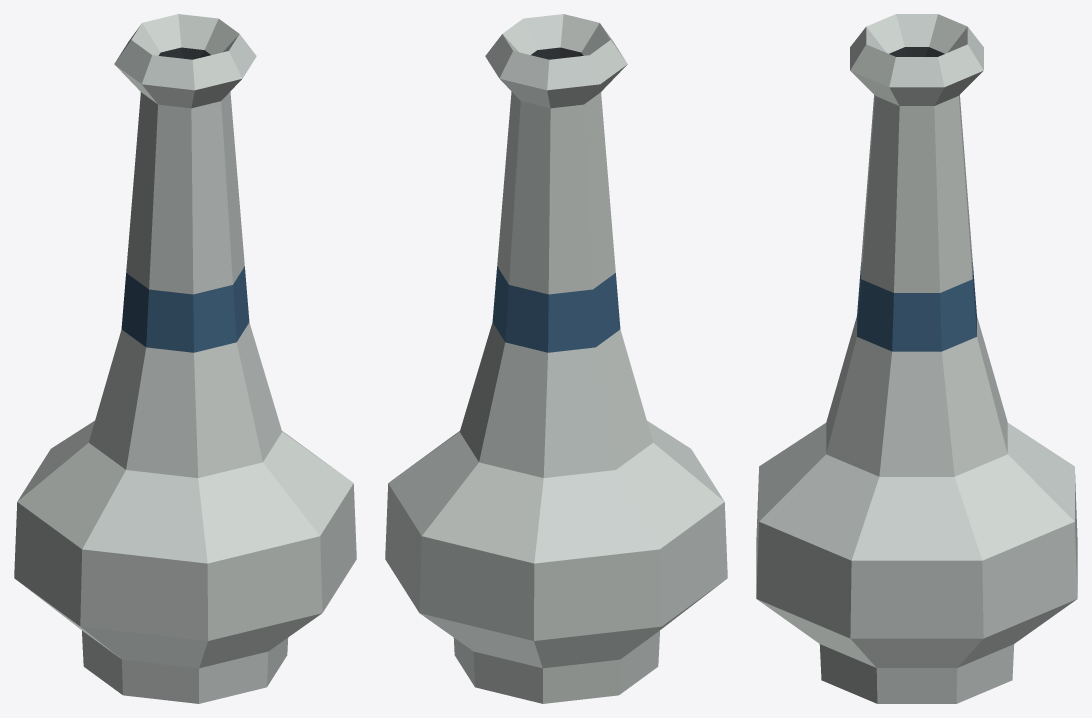
The model's file is SM_Prop_Vase_02.glb.
The picture shows the model from 3 angles, left to right: view 1: azimuth 30°, elevation 25°; view 2: azimuth 150°, elevation 25°; view 3: azimuth 270°, elevation 25°; orthographic projection.
Visible parts, largest first — view 1: SM_Prop_Vase_02; view 2: SM_Prop_Vase_02; view 3: SM_Prop_Vase_02.
Part boxes in pixels (bbox=[...]): SM_Prop_Vase_02: bbox=[14, 14, 356, 703]; SM_Prop_Vase_02: bbox=[385, 14, 727, 703]; SM_Prop_Vase_02: bbox=[756, 14, 1077, 703].
Size of the model in its own units: 0.3899 by 0.8407 by 0.3899.
1 material, 1 textured.
